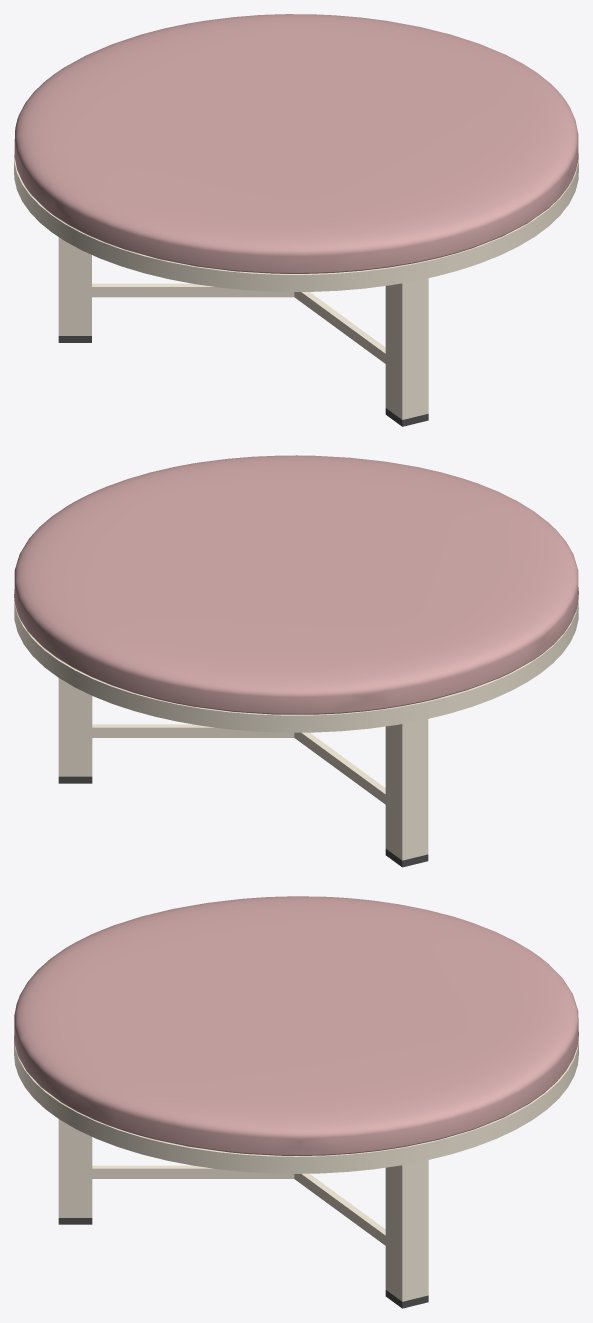
Rendered from 416_センターテーブル.glb.
The picture shows the model from 3 angles, top to bottom: view 1: azimuth 30°, elevation 25°; view 2: azimuth 150°, elevation 25°; view 3: azimuth 270°, elevation 25°; orthographic projection.
Parts seen in each view (by area): view 1: 416_センターテーブル; view 2: 416_センターテーブル; view 3: 416_センターテーブル.
Part boxes in pixels (<box>): 416_センターテーブル: <box>14,14,578,426</box>; 416_センターテーブル: <box>14,455,578,867</box>; 416_センターテーブル: <box>14,896,578,1308</box>.
Bounding box in the file's own units: 0.75 × 0.31 × 0.75.
